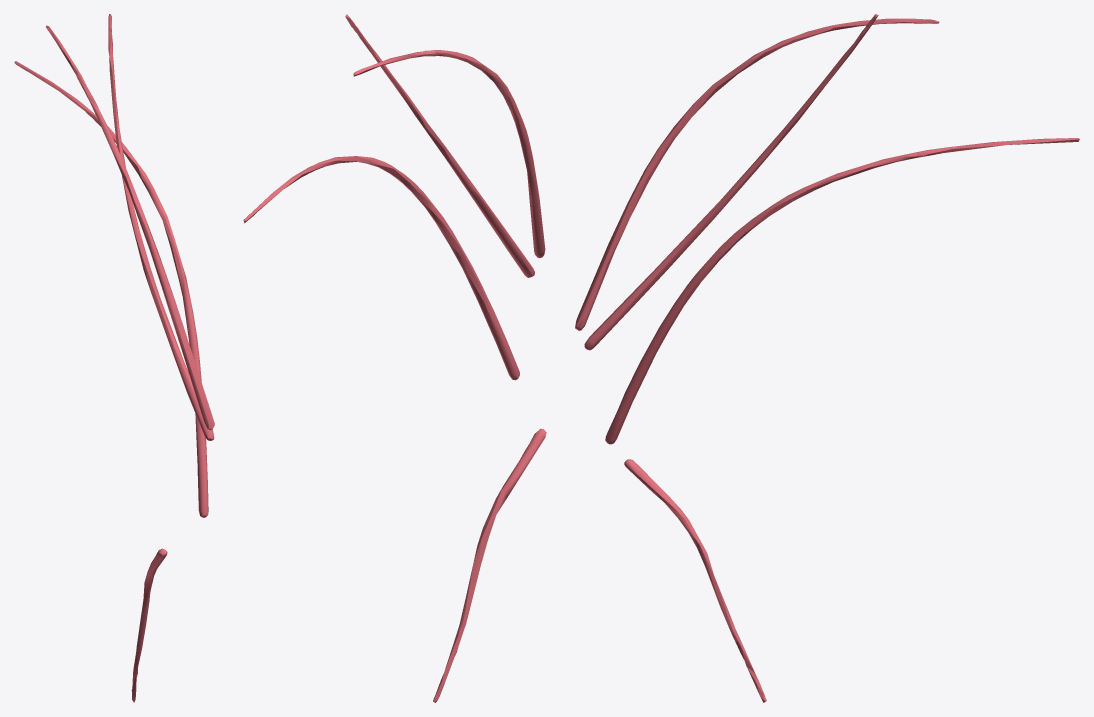
File: fma50315_fj5180.glb
3 views of the same model, side by side, from view 1: azimuth 30°, elevation 25°; view 2: azimuth 150°, elevation 25°; view 3: azimuth 270°, elevation 25° (orthographic). The views are drawn at different scales.
Visible parts, largest first — view 1: FMA50315_FJ5180; view 2: FMA50315_FJ5180; view 3: FMA50315_FJ5180.
Part boxes in pixels (x1,y1,x2,y2): FMA50315_FJ5180: [14, 14, 214, 702]; FMA50315_FJ5180: [243, 14, 546, 702]; FMA50315_FJ5180: [575, 14, 1079, 702].
Bounding box in the file's own units: 0.00419 × 0.0332 × 0.0216.
